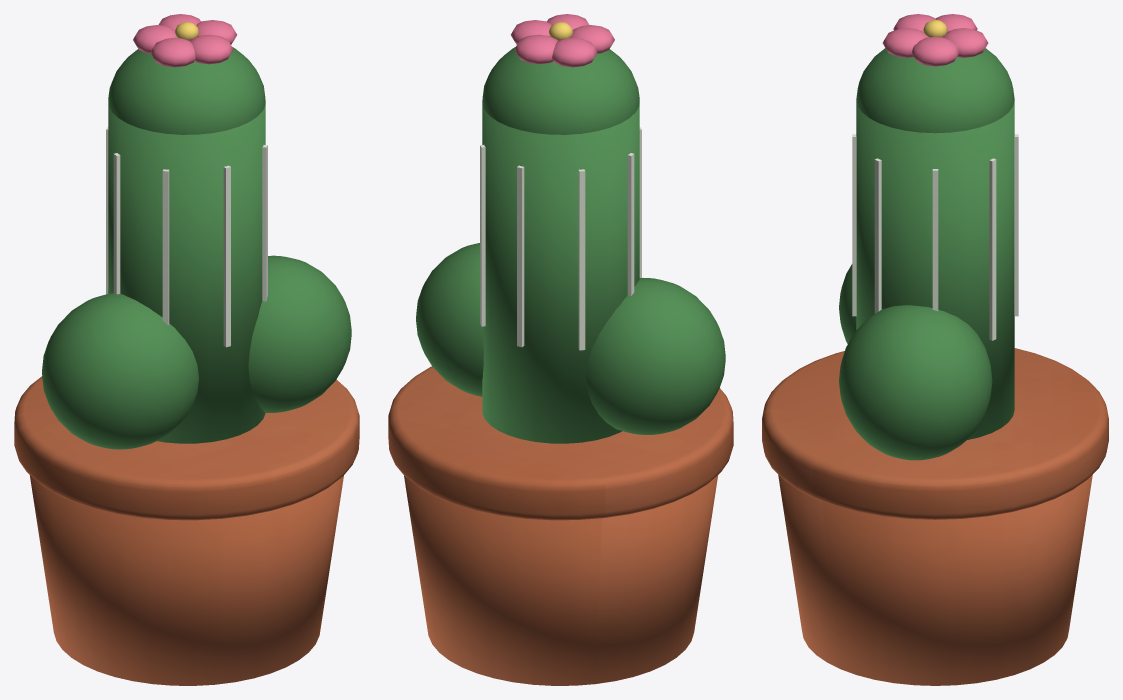
3 renders of one model, left to right at view 1: azimuth 30°, elevation 25°; view 2: azimuth 150°, elevation 25°; view 3: azimuth 270°, elevation 25°, orthographic.
Visible parts, largest first — view 1: fig-cheeky-cactus; view 2: fig-cheeky-cactus; view 3: fig-cheeky-cactus.
Boxes of the visible parts, x1,y1,x2,y2 form: fig-cheeky-cactus: (14, 14, 359, 685); fig-cheeky-cactus: (388, 14, 733, 685); fig-cheeky-cactus: (762, 14, 1108, 685).
Bounding box in the file's own units: 0.07 × 0.1355 × 0.07.
Materials: 6 (1 with a texture image).
